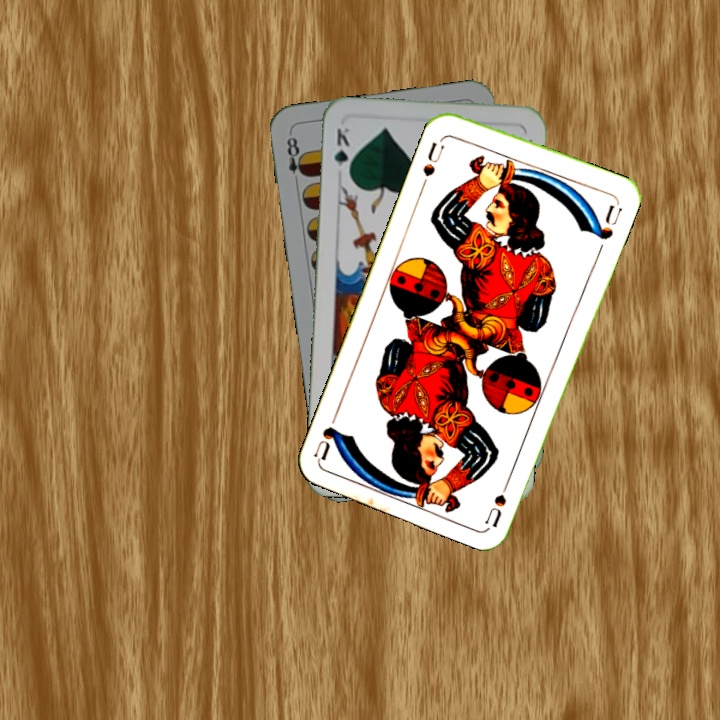E8: (283, 129, 309, 189)
GK: (330, 123, 353, 181)
SU: (482, 470, 515, 528), (418, 133, 448, 190)
